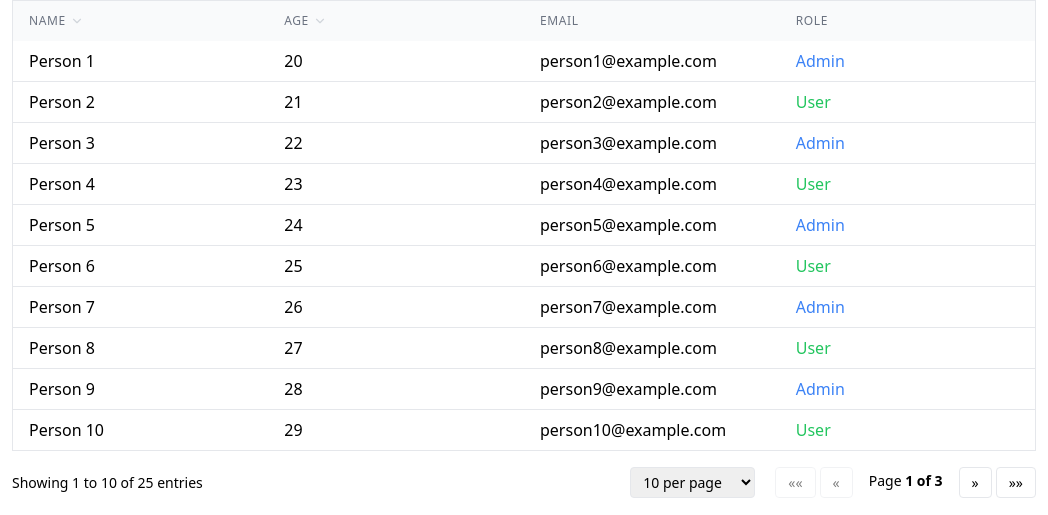
Test: DataTable › supports pagination
The width and height of the screenshot is (1048, 515).
Check: the text "Person 1" is shown, box [12,41,268,82]
Check: the text "Person 10" is shown, box [12,410,268,450]
Click the button named "Go to next page" at x=975, y=482, box [959,467,992,498]
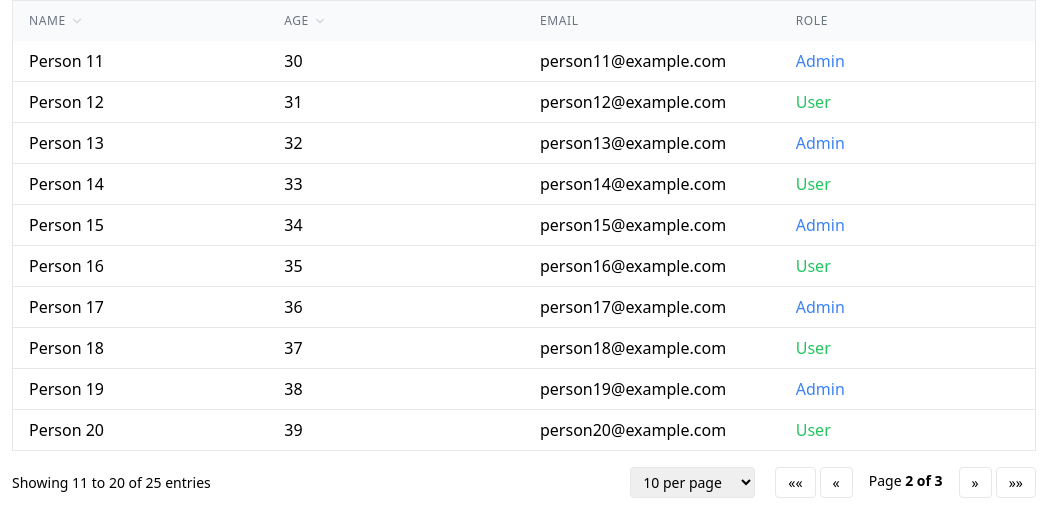
Check: the text "Person 11" is shown, box [12,41,268,82]
Check: the text "Person 20" is shown, box [12,410,268,450]
Check: the text "Showing 11 to 20 of 25 entries" is shown, box [12,472,211,492]
